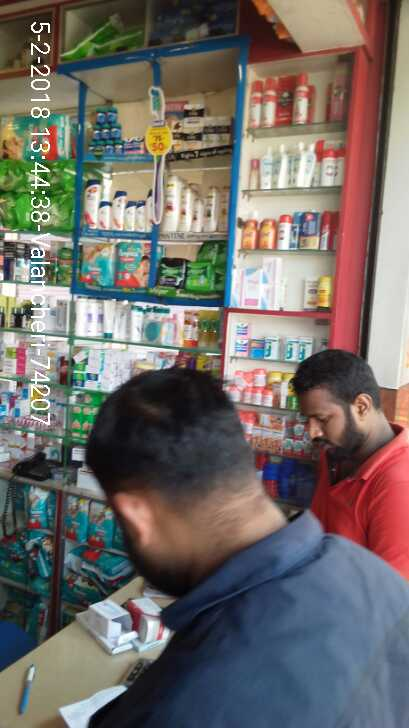vicks: (90, 104, 153, 157)
